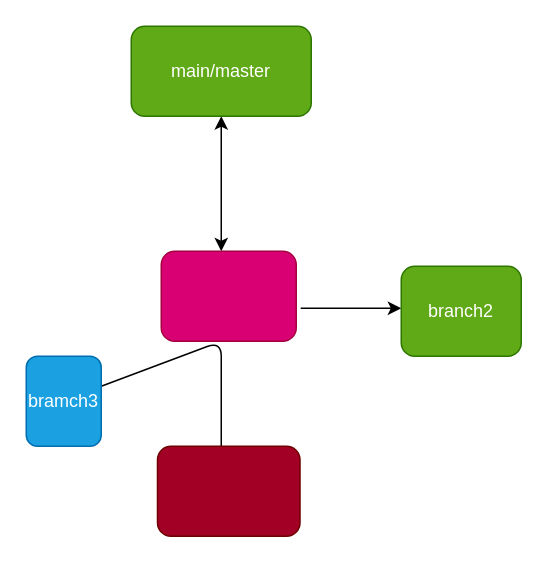
The diagram is 548 pixels wide and 563 high, and some of its shapes have lost their labels. Each missing label, with the centre of its shape:
"branch1" belongs at pixel 228 295.
"branch4" belongs at pixel 228 490.
